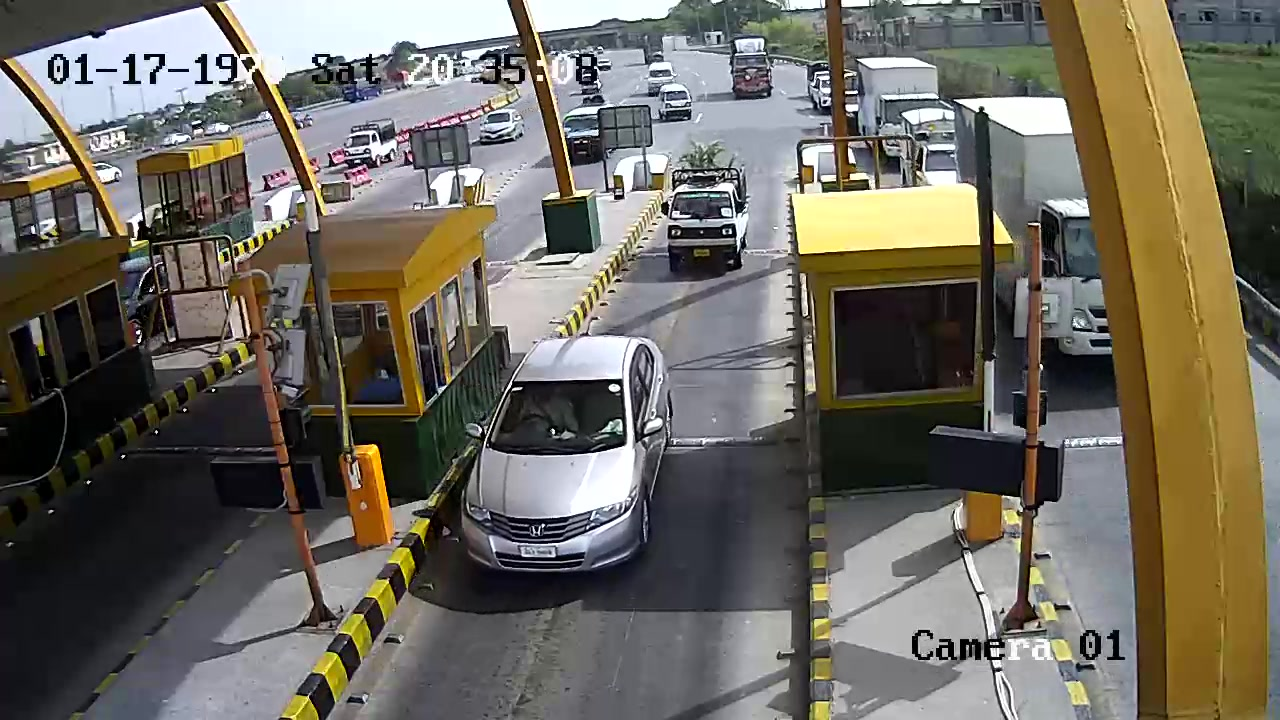F1: (449, 317, 699, 612), (657, 134, 766, 303)
